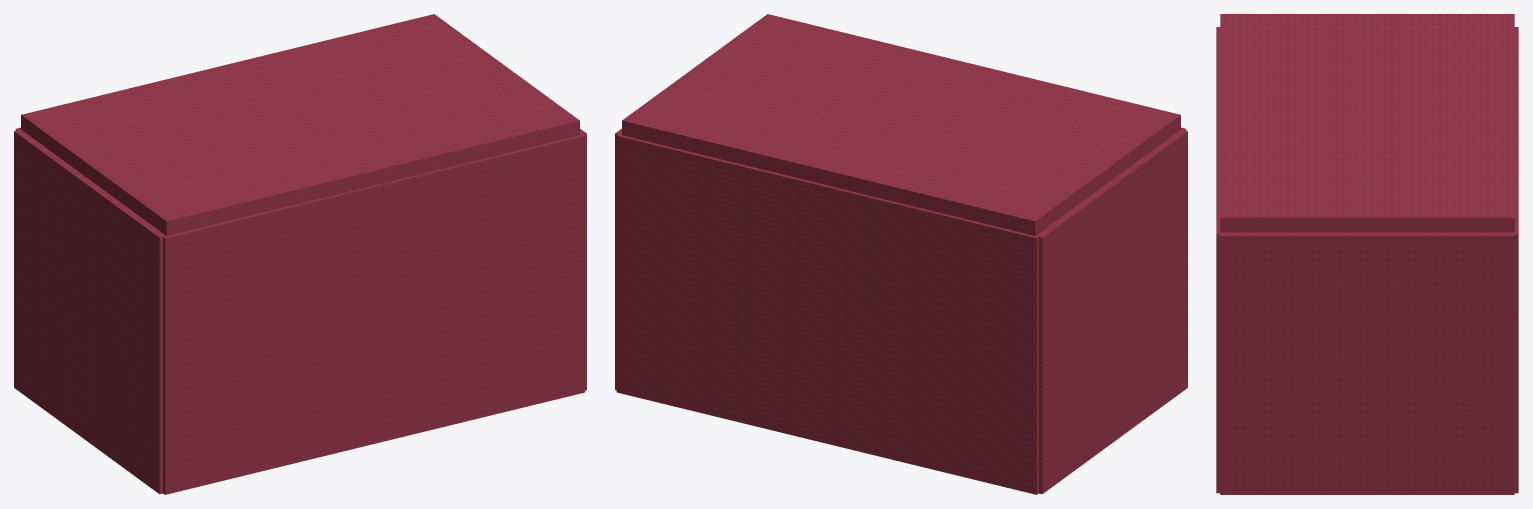
Rendered from ch5_prop_decor_cloth.glb.
The picture shows the model from 3 angles, left to right: view 1: azimuth 30°, elevation 25°; view 2: azimuth 150°, elevation 25°; view 3: azimuth 270°, elevation 25°; orthographic projection.
Parts seen in each view (by area): view 1: ch5_prop_decor_cloth; view 2: ch5_prop_decor_cloth; view 3: ch5_prop_decor_cloth.
Boxes of the visible parts, x1=… form: ch5_prop_decor_cloth: x1=14, y1=14, x2=586, y2=494; ch5_prop_decor_cloth: x1=615, y1=14, x2=1187, y2=494; ch5_prop_decor_cloth: x1=1216, y1=14, x2=1518, y2=494.
Size of the model in its own units: 1.22 by 0.74 by 0.74.
1 material, 1 textured.
